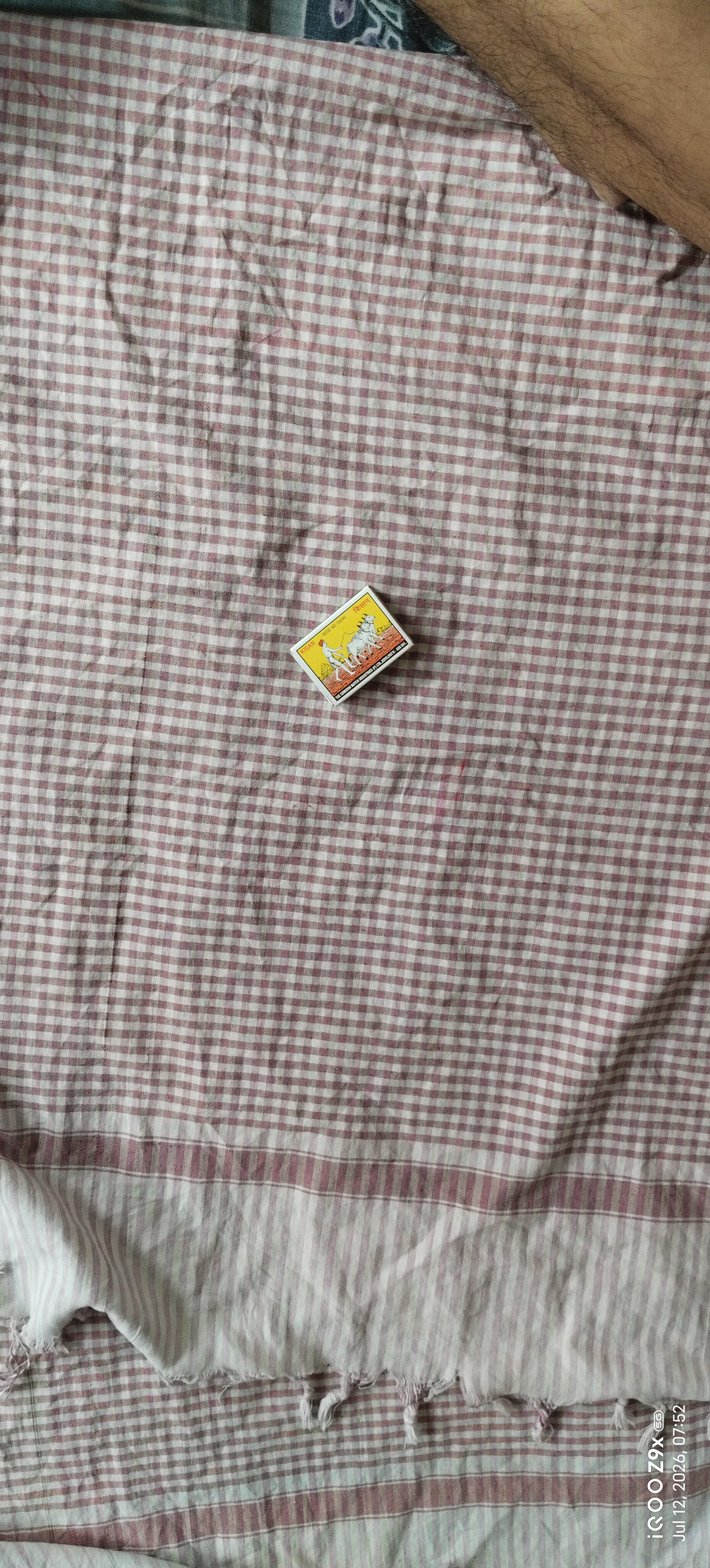matchbox: (268, 567, 423, 712)
